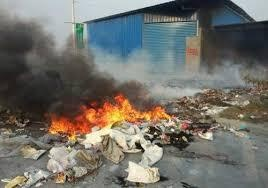fire: (46, 92, 174, 137)
